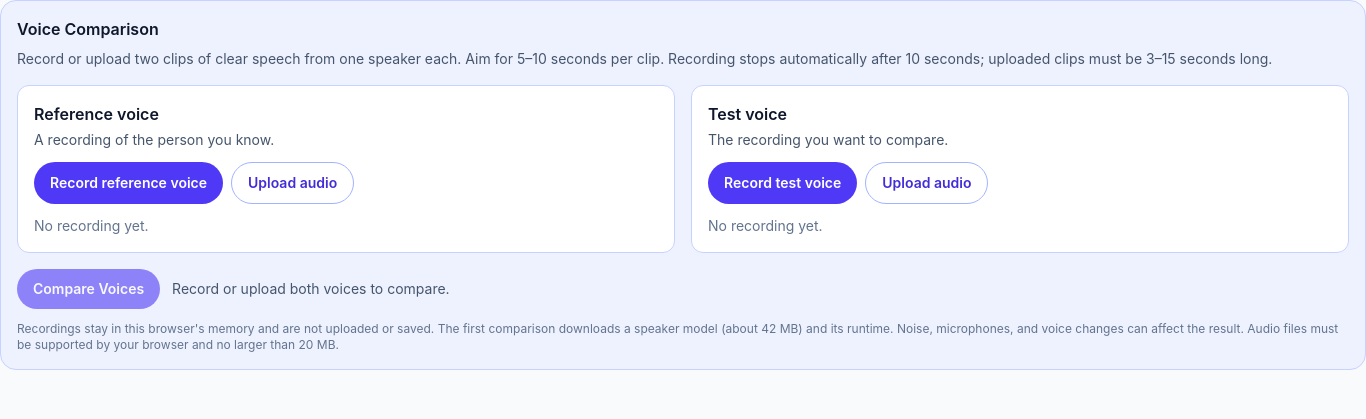
Test case: allows uploads when microphone recording is unsupported
Later steps or results of the test are not shown.
Click the button "Record reference voice": (128, 183) [34,162,223,204]
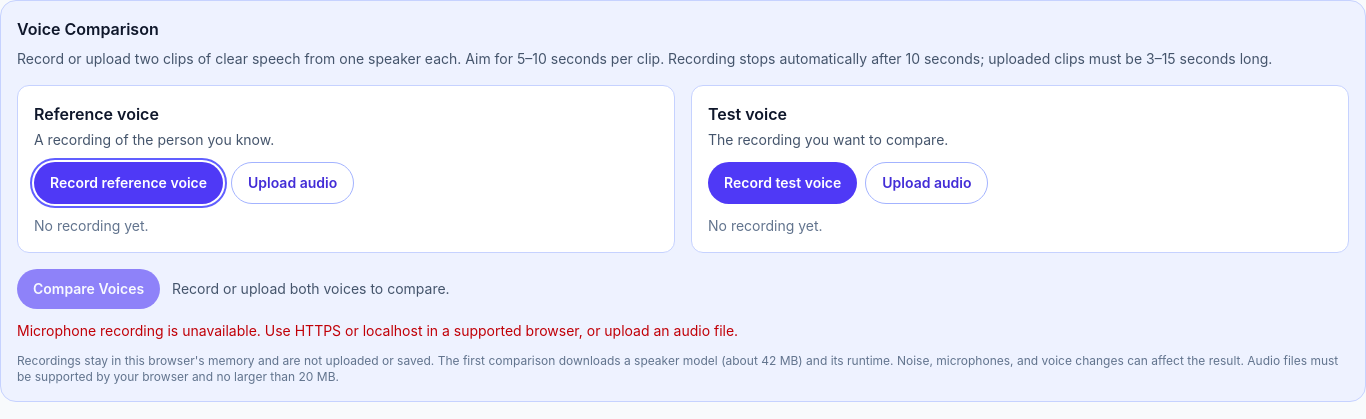
expect the 2nd message shows "Microphone recording is unavailable": met, box [17,322,738,339]
